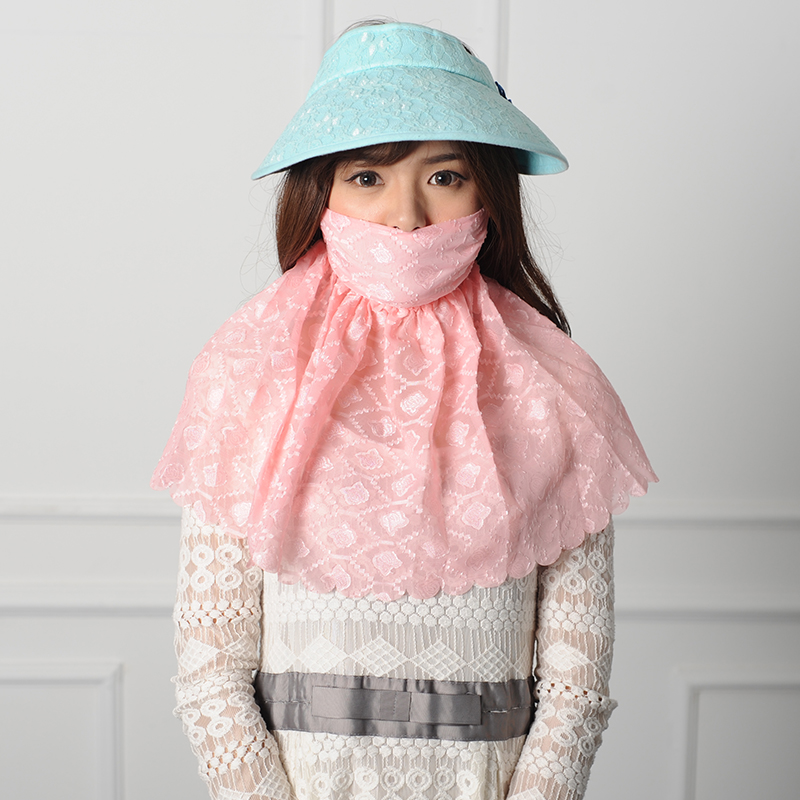face_mask: (322, 102, 484, 306)
